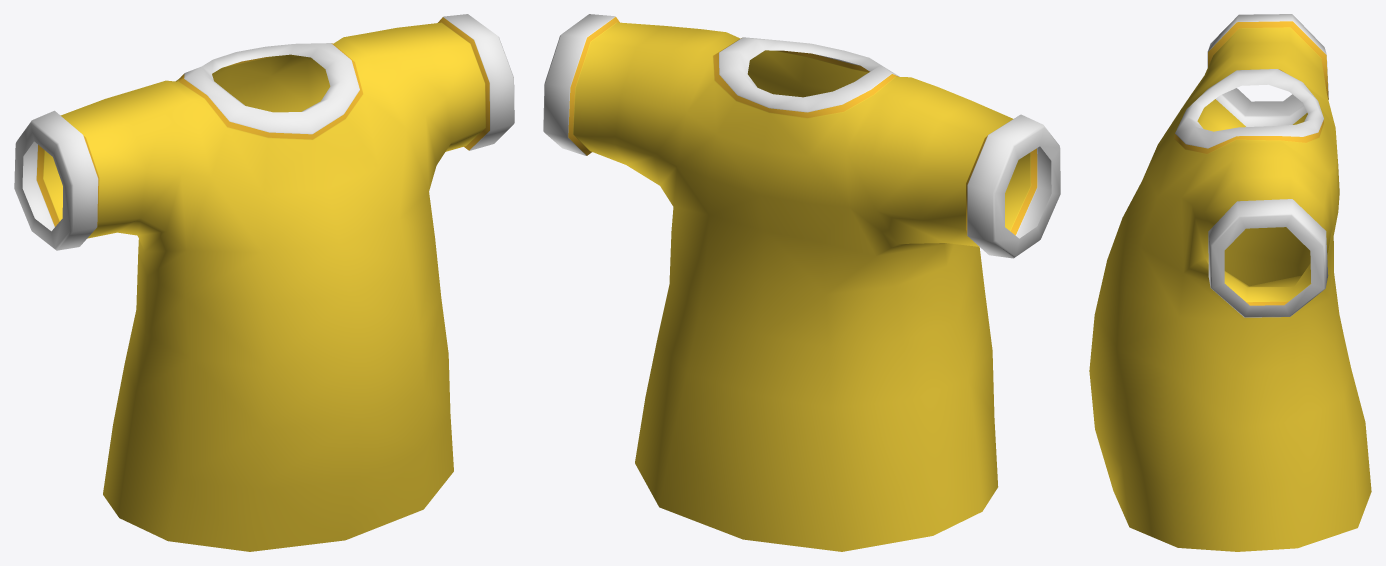
Rendered from Outerwear_Yellow_008.glb.
The picture shows the model from 3 angles, left to right: view 1: azimuth 30°, elevation 25°; view 2: azimuth 150°, elevation 25°; view 3: azimuth 270°, elevation 25°; orthographic projection. The views are drawn at different scales.
Parts seen in each view (by area): view 1: Outerwear_Yellow_008; view 2: Outerwear_Yellow_008; view 3: Outerwear_Yellow_008.
Part boxes in pixels (x1=…): Outerwear_Yellow_008: x1=14, y1=14, x2=514, y2=551; Outerwear_Yellow_008: x1=543, y1=14, x2=1060, y2=551; Outerwear_Yellow_008: x1=1089, y1=14, x2=1371, y2=551.
Bounding box in the file's own units: 0.6902 × 0.6213 × 0.4059.
1 material, 1 textured.
